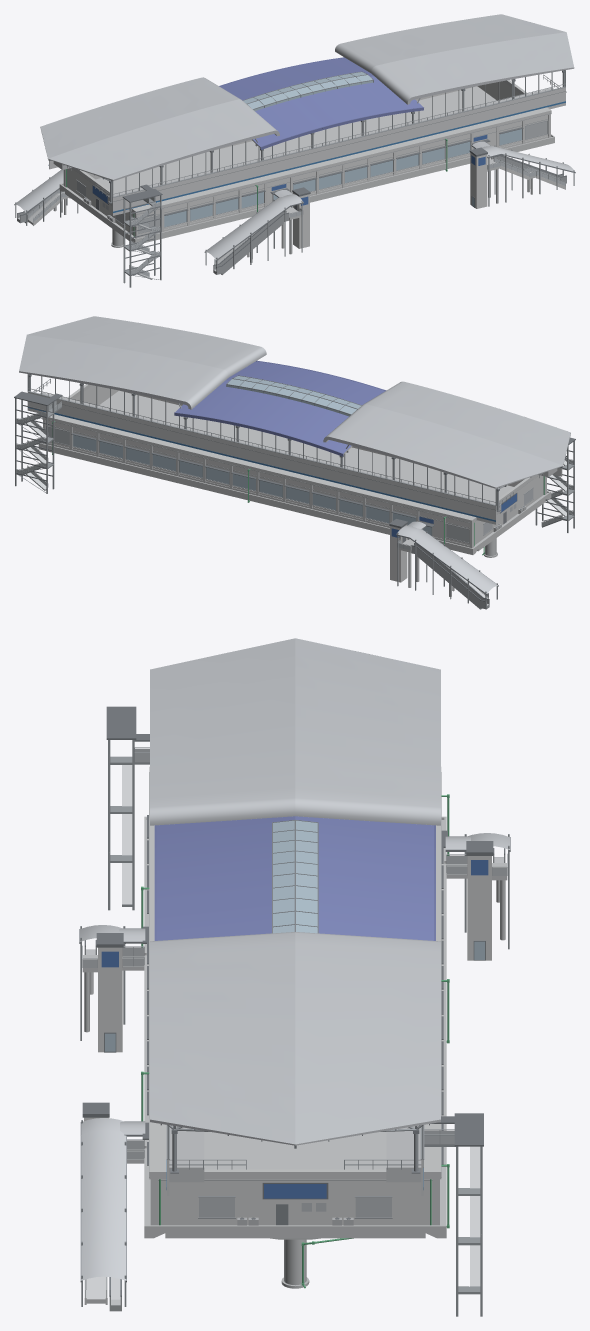
3 renders of one model, top to bottom at view 1: azimuth 30°, elevation 25°; view 2: azimuth 150°, elevation 25°; view 3: azimuth 270°, elevation 25°, orthographic. The views are drawn at different scales.
Parts seen in each view (by area): view 1: BL34, BL34_conc, BL34_access; view 2: BL34, BL34_conc, BL34_access; view 3: BL34, BL34_conc, BL34_access.
Boxes of the visible parts, x1,y1,x2,y2 form: BL34: (40,14,574,215); BL34_conc: (59,80,554,247); BL34_access: (14,138,575,287); BL34: (19,316,570,524); BL34_conc: (38,384,551,557); BL34_access: (14,391,575,609); BL34: (150,638,440,1195); BL34_conc: (142,766,447,1288); BL34_access: (79,706,510,1316).
Size of the model in its own units: 126 by 28 by 45.36.
